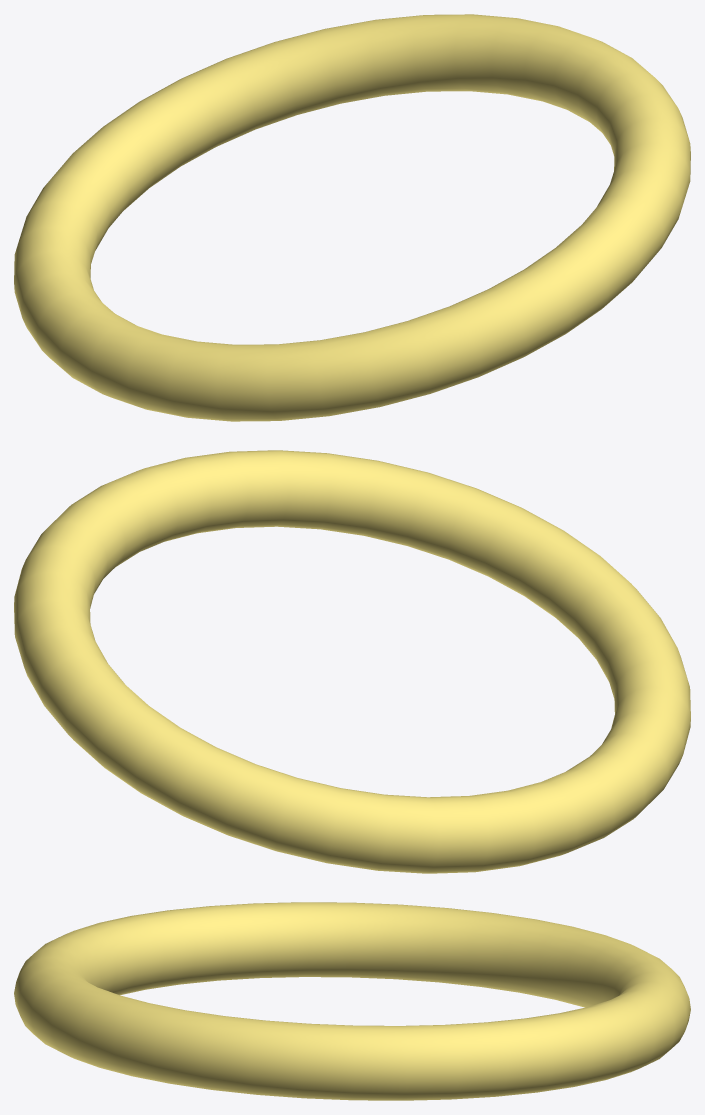
The model's file is Mouton_habillé_Auréole.fbx.
The picture shows the model from 3 angles, top to bottom: view 1: azimuth 30°, elevation 25°; view 2: azimuth 150°, elevation 25°; view 3: azimuth 270°, elevation 25°; orthographic projection. The views are drawn at different scales.
Visible parts, largest first — view 1: auréole; view 2: auréole; view 3: auréole.
Part boxes in pixels (bbox=[...]): auréole: bbox=[14, 14, 690, 421]; auréole: bbox=[14, 450, 690, 873]; auréole: bbox=[14, 902, 690, 1100].
Bounding box in the file's own units: 30.86 × 9.96 × 31.6.
